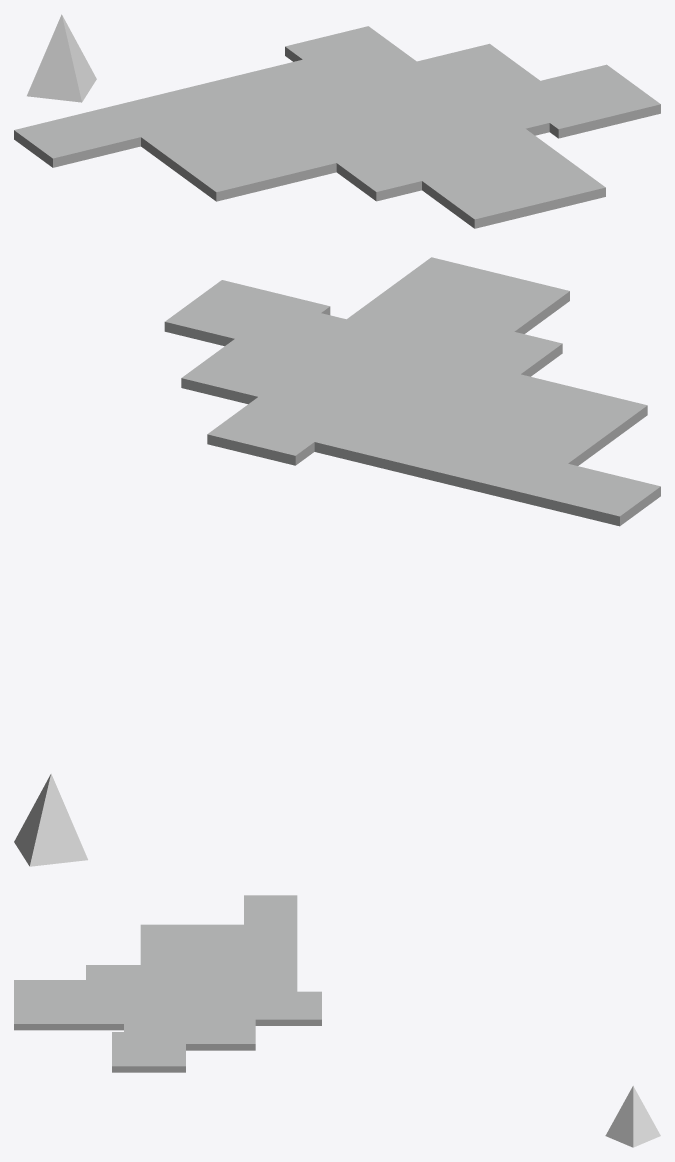
The model's file is SM_Toproof.fbx.
3 views of the same model, one above another, from view 1: azimuth 30°, elevation 25°; view 2: azimuth 150°, elevation 25°; view 3: azimuth 270°, elevation 25° (orthographic). The views are drawn at different scales.
Visible parts, largest first — view 1: floor2_roof, SM_referemcepoint; view 2: floor2_roof, SM_referemcepoint; view 3: floor2_roof, SM_referemcepoint.
Part boxes in pixels (x1=…): floor2_roof: x1=14, y1=26, x2=660, y2=228; SM_referemcepoint: x1=27, y1=14, x2=96, y2=102; floor2_roof: x1=164, y1=257, x2=660, y2=526; SM_referemcepoint: x1=14, y1=773, x2=87, y2=866; floor2_roof: x1=14, y1=895, x2=321, y2=1072; SM_referemcepoint: x1=605, y1=1086, x2=660, y2=1147.
Bounding box in the file's own units: 2496 × 3990 × 972.
